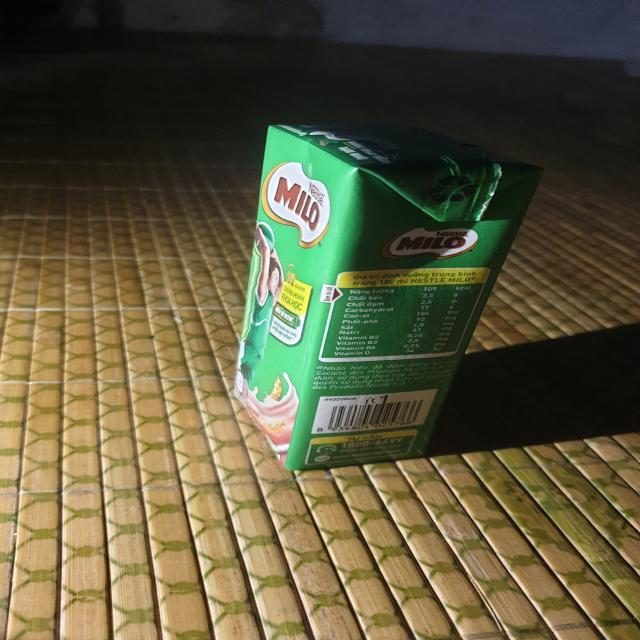Milo: (227, 127, 546, 470)
